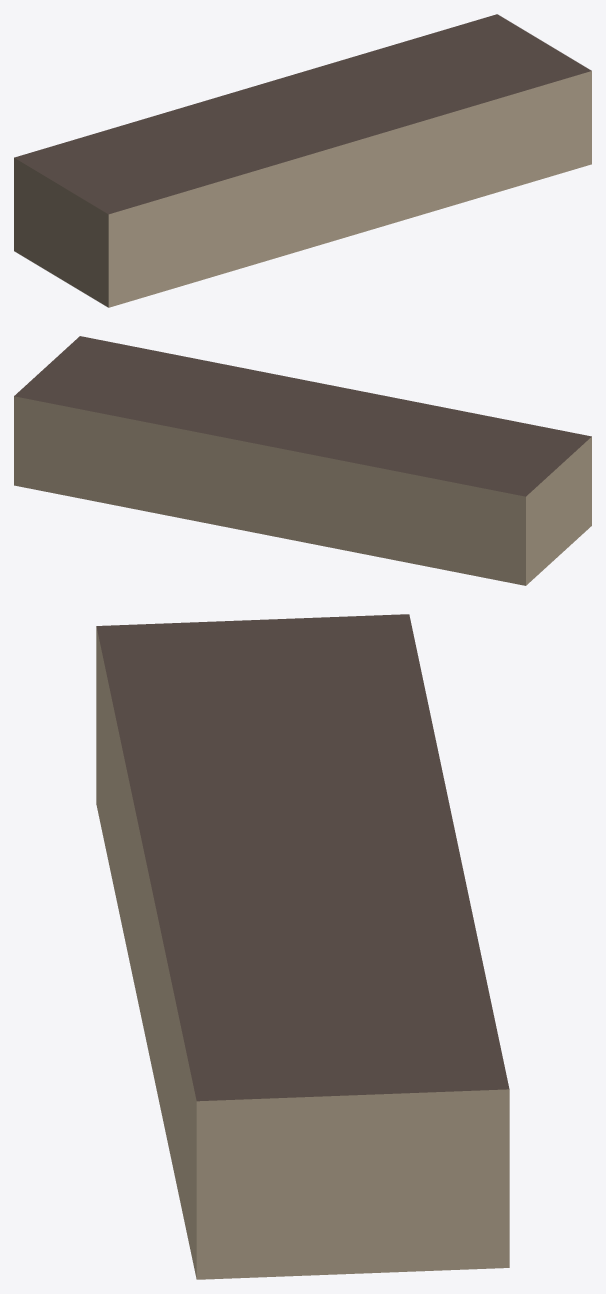
3 views of the same model, one above another, from view 1: azimuth 30°, elevation 25°; view 2: azimuth 150°, elevation 25°; view 3: azimuth 270°, elevation 25° (orthographic). The views are drawn at different scales.
Parts seen in each view (by area): view 1: HP-w859078879; view 2: HP-w859078879; view 3: HP-w859078879.
Boxes of the visible parts, x1,y1,x2,y2 form: HP-w859078879: [14, 14, 591, 307]; HP-w859078879: [14, 336, 591, 585]; HP-w859078879: [96, 614, 509, 1279].
Size of the model in its own units: 52.65 by 9 by 18.87.
